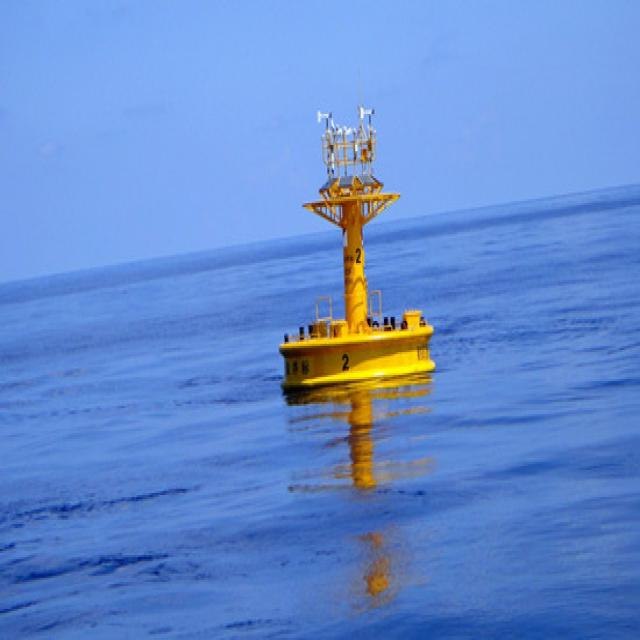buoy: (277, 107, 431, 402)
